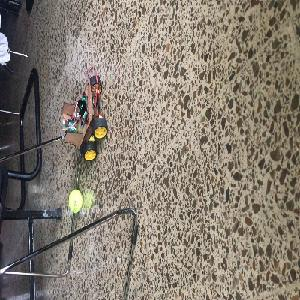Ball: (68, 190, 82, 214)
Robot: (62, 76, 107, 160)
